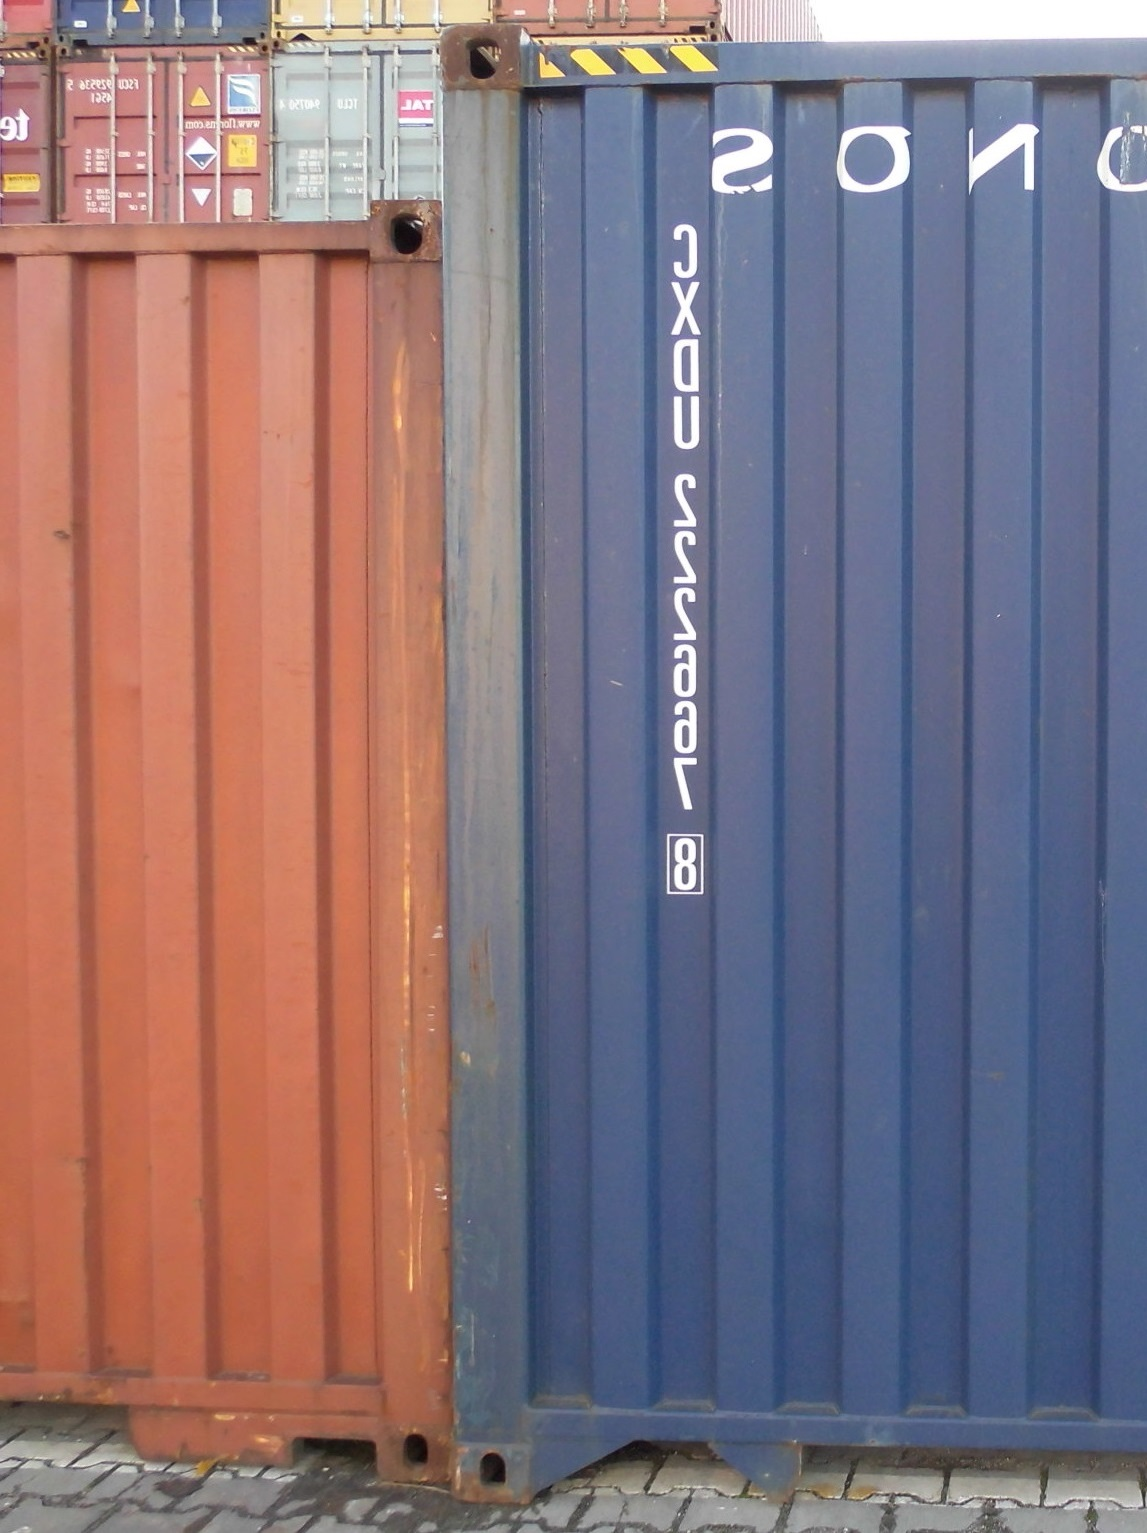container_door: (55, 41, 271, 224), (273, 40, 451, 216)
container_no_door: (459, 36, 1147, 1507), (8, 208, 448, 1488)
